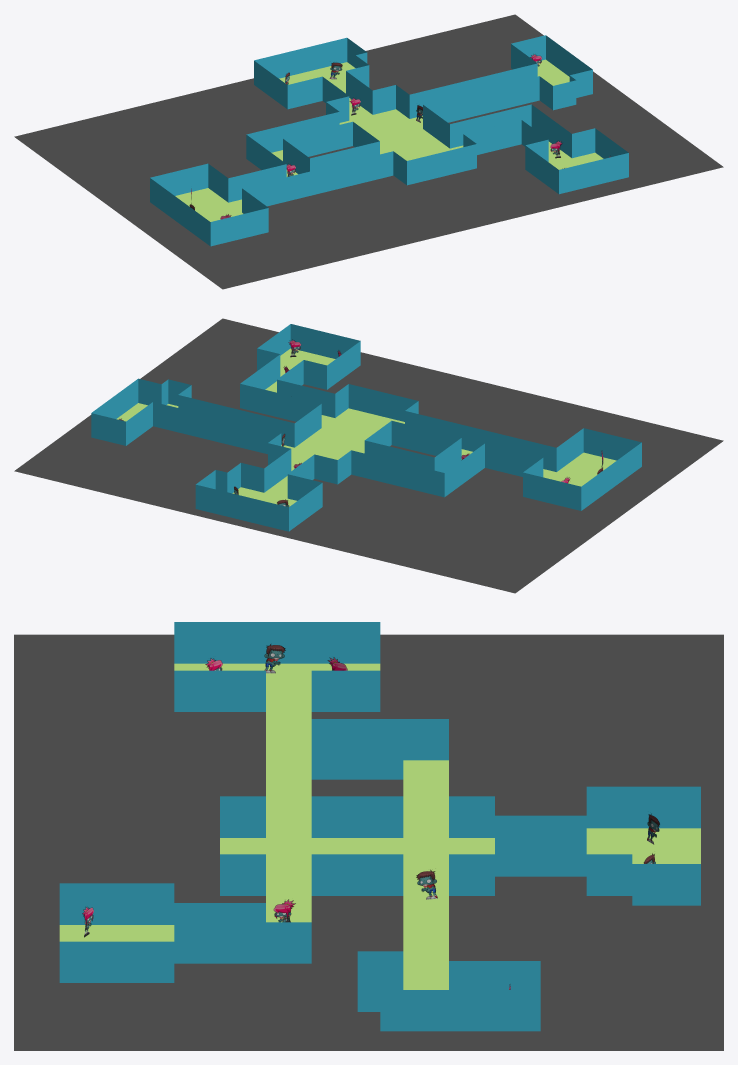
Rendered from level1.gltf.
3 renders of one model, top to bottom at view 1: azimuth 30°, elevation 25°; view 2: azimuth 150°, elevation 25°; view 3: azimuth 270°, elevation 25°, orthographic. The views are drawn at different scales.
Parts seen in each view (by area): view 1: Grid.001, Grid; view 2: Grid.001, Grid; view 3: Grid.001, Grid.
Part boxes in pixels (x1,y1,x2,y2): Grid.001: (14, 14, 723, 289); Grid: (150, 35, 628, 246); Grid.001: (14, 318, 723, 593); Grid: (91, 324, 641, 531); Grid.001: (14, 634, 723, 1050); Grid: (59, 622, 700, 1031).
Bounding box in the file's own units: 86 × 4.02 × 62.
